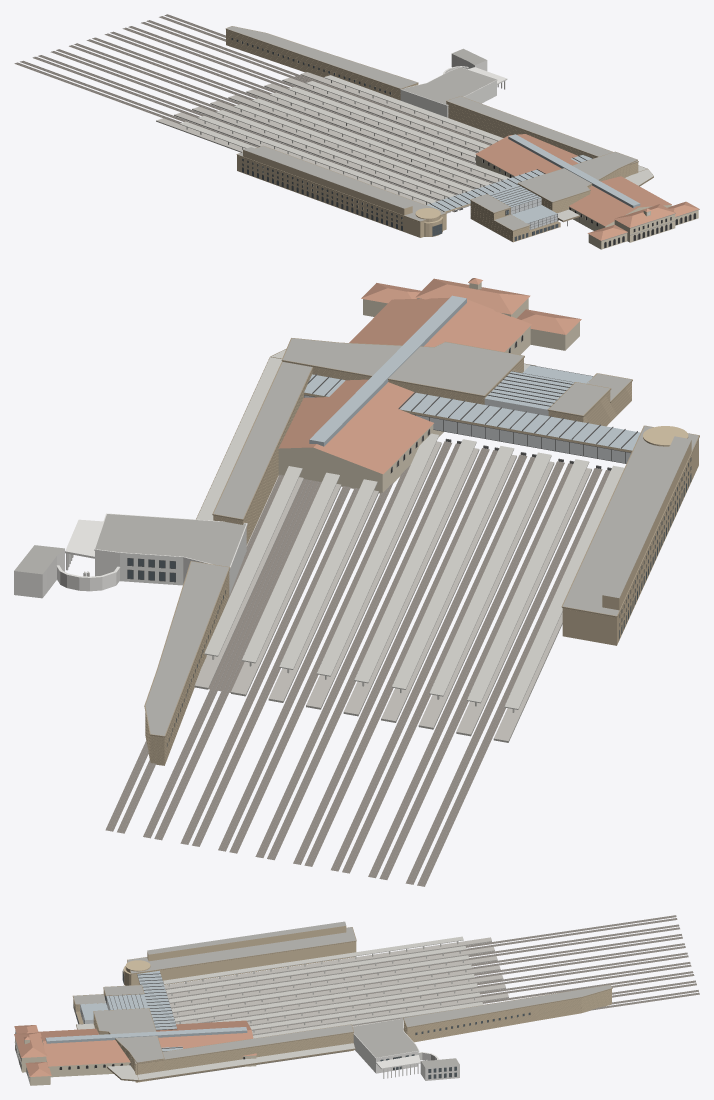
Rendered from stazione_smn.glb.
3 views of the same model, one above another, from view 1: azimuth 30°, elevation 25°; view 2: azimuth 150°, elevation 25°; view 3: azimuth 270°, elevation 25° (orthographic). The views are drawn at different scales.
Visible parts, largest first — view 1: binari@1935-99999.platform, binari@1935-99999.concrete, fabbricato_viaggiatori@1935-99999.pf, fabbricato_viaggiatori@1935-99999.roof_m, binari_scalo@1848-99999.ballast, maria_antonia@1848-1934.roof, binari_scalo@1848-99999.rail, binari@1935-99999.ballast, fabbricato_viaggiatori@1935-99999.pf_trim, fabbricato_viaggiatori@1935-99999.glass_roof, palazzina_reale@1935-99999.roof_m, binari@1935-99999.rail (+10 smaller); view 2: binari@1935-99999.concrete, binari@1935-99999.ballast, fabbricato_viaggiatori@1935-99999.roof_m, binari_scalo@1848-99999.ballast, maria_antonia@1848-1934.roof, binari@1935-99999.platform, fabbricato_viaggiatori@1935-99999.pf, fabbricato_viaggiatori@1935-99999.glass_roof, binari@1935-99999.rail, palazzina_reale@1935-99999.roof_m, palazzina_reale@1935-99999.marble_w, binari_scalo@1848-99999.rail (+9 smaller); view 3: binari@1935-99999.platform, binari@1935-99999.concrete, fabbricato_viaggiatori@1935-99999.pf, fabbricato_viaggiatori@1935-99999.roof_m, binari_scalo@1848-99999.ballast, maria_antonia@1848-1934.roof, binari_scalo@1848-99999.rail, binari@1935-99999.ballast, fabbricato_viaggiatori@1935-99999.pf_trim, fabbricato_viaggiatori@1935-99999.glass_roof, palazzina_reale@1935-99999.roof_m, palazzina_reale@1935-99999.marble_w (+6 smaller).
Part boxes in pixels (x1,y1,x2,y2): binari@1935-99999.platform: (156, 72, 502, 213); binari@1935-99999.concrete: (179, 75, 509, 204); fabbricato_viaggiatori@1935-99999.pf: (226, 29, 638, 242); fabbricato_viaggiatori@1935-99999.roof_m: (226, 26, 637, 230); binari_scalo@1848-99999.ballast: (14, 14, 298, 118); maria_antonia@1848-1934.roof: (475, 134, 699, 240); binari_scalo@1848-99999.rail: (15, 14, 297, 117); binari@1935-99999.ballast: (164, 75, 502, 212); fabbricato_viaggiatori@1935-99999.pf_trim: (225, 26, 653, 232); fabbricato_viaggiatori@1935-99999.glass_roof: (426, 155, 592, 223); palazzina_reale@1935-99999.roof_m: (401, 48, 496, 105); binari@1935-99999.rail: (165, 75, 492, 211); binari@1935-99999.concrete: (204, 433, 624, 712); binari@1935-99999.ballast: (210, 441, 610, 739); fabbricato_viaggiatori@1935-99999.roof_m: (145, 338, 698, 735); binari_scalo@1848-99999.ballast: (105, 689, 491, 886); maria_antonia@1848-1934.roof: (278, 278, 581, 474); binari@1935-99999.platform: (194, 441, 591, 742); fabbricato_viaggiatori@1935-99999.pf: (145, 358, 698, 765); fabbricato_viaggiatori@1935-99999.glass_roof: (304, 365, 640, 450); binari@1935-99999.rail: (212, 442, 607, 737); palazzina_reale@1935-99999.roof_m: (14, 514, 246, 574); palazzina_reale@1935-99999.marble_w: (14, 513, 247, 598); binari_scalo@1848-99999.rail: (107, 689, 489, 885); binari@1935-99999.platform: (164, 937, 508, 1035); binari@1935-99999.concrete: (163, 936, 483, 1038); fabbricato_viaggiatori@1935-99999.pf: (73, 926, 611, 1082); fabbricato_viaggiatori@1935-99999.roof_m: (73, 921, 611, 1063); binari_scalo@1848-99999.ballast: (492, 915, 699, 1010); maria_antonia@1848-1934.roof: (14, 1020, 256, 1076); binari_scalo@1848-99999.rail: (493, 915, 698, 1009); binari@1935-99999.ballast: (165, 942, 509, 1035); fabbricato_viaggiatori@1935-99999.pf_trim: (72, 927, 612, 1081); fabbricato_viaggiatori@1935-99999.glass_roof: (80, 970, 182, 1051); palazzina_reale@1935-99999.roof_m: (352, 1018, 459, 1067); palazzina_reale@1935-99999.marble_w: (352, 1018, 459, 1080).
Bounding box in the file's own units: 279 × 17.9 × 468.
